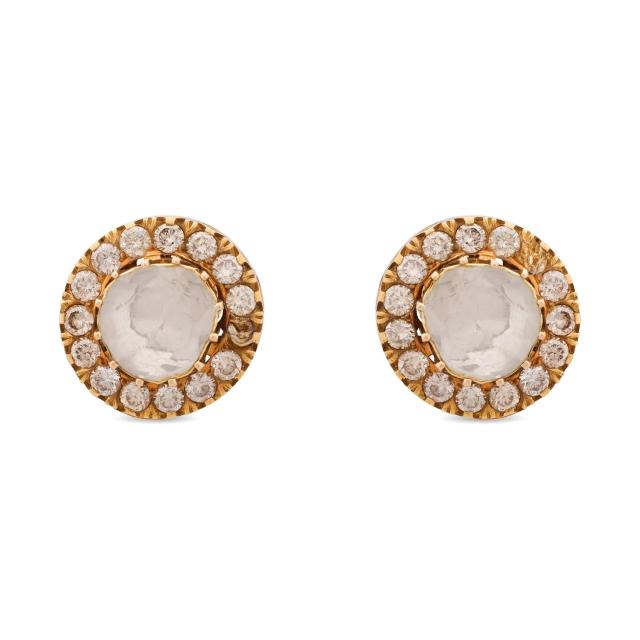missing gem: (521, 247, 548, 273), (229, 320, 255, 345)
